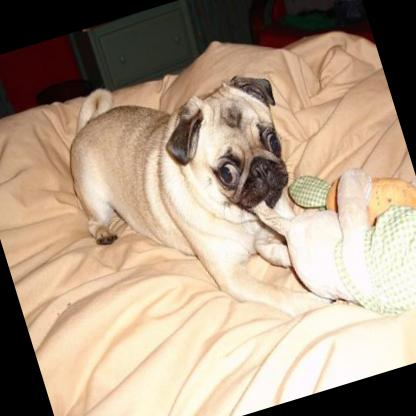pug: (42, 34, 337, 369)
